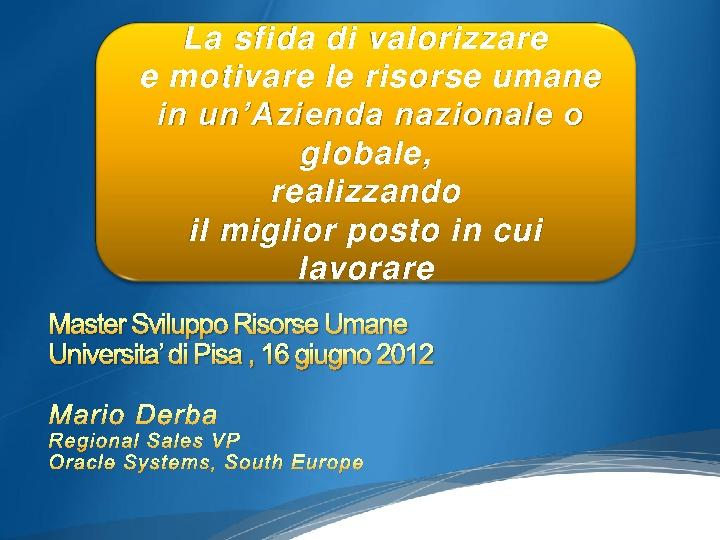subtitle: (39, 304, 526, 505)
title: (110, 13, 631, 300)
